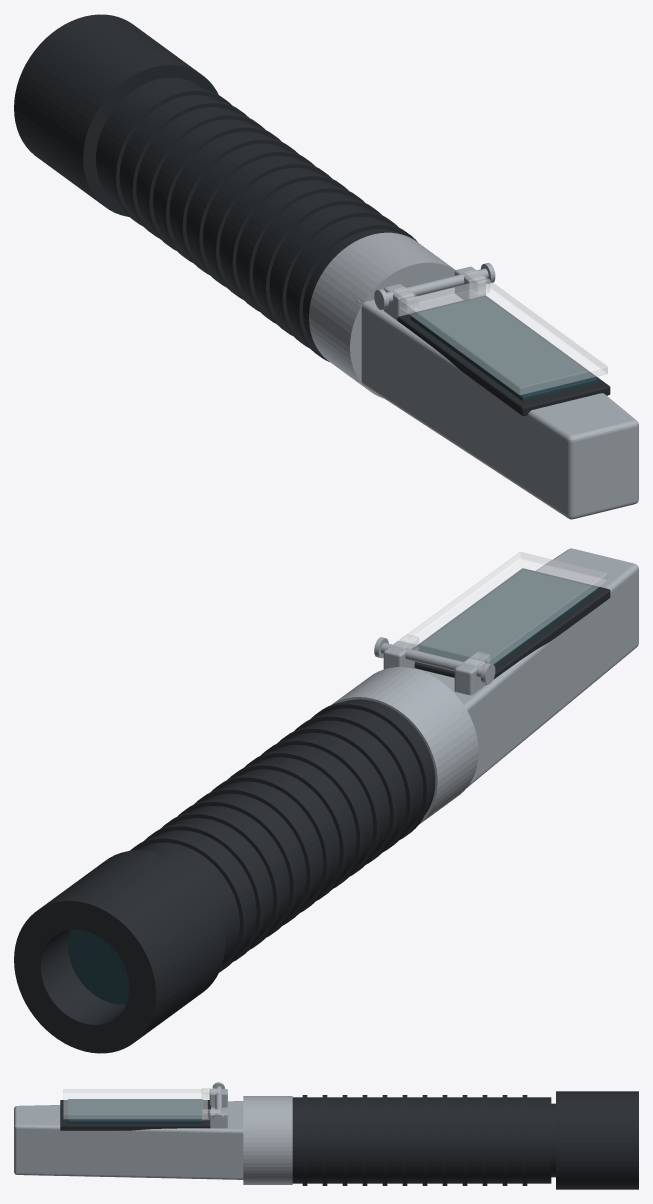
Rendered from full.glb.
3 renders of one model, top to bottom at view 1: azimuth 30°, elevation 25°; view 2: azimuth 150°, elevation 25°; view 3: azimuth 270°, elevation 25°, orthographic. The views are drawn at different scales.
Visible parts, largest first — view 1: Tapered sample head, Coaxial grip, Flared open eyecup, Daylight transparent flap, Front metal collar, Dark rectangular prism, Prism seating surround, Grip ridge 0, Grip ridge 10, Grip ridge 9, Grip ridge 3, Grip ridge 4 (+10 smaller); view 2: Flared open eyecup, Coaxial grip, Tapered sample head, Daylight transparent flap, Dark rectangular prism, Front metal collar, Recessed ocular glass, Prism seating surround, Grip ridge 0, Grip ridge 10, Grip ridge 4, Grip ridge 2 (+10 smaller); view 3: Coaxial grip, Tapered sample head, Flared open eyecup, Front metal collar, Daylight transparent flap, Dark rectangular prism, Prism seating surround, Grip ridge 0, Grip ridge 1, Grip ridge 2, Grip ridge 3, Grip ridge 4 (+10 smaller).
Part boxes in pixels (box(x1,y1,x2,y2)): Tapered sample head: box(356, 287, 638, 519); Coaxial grip: box(96, 77, 401, 348); Flared open eyecup: box(14, 14, 218, 216); Daylight transparent flap: box(400, 279, 607, 394); Front metal collar: box(309, 232, 455, 398); Dark rectangular prism: box(410, 297, 597, 401); Prism seating surround: box(397, 295, 610, 415); Grip ridge 0: box(295, 222, 417, 361); Grip ridge 10: box(129, 100, 248, 238); Grip ridge 9: box(145, 112, 265, 250); Grip ridge 3: box(245, 185, 364, 323); Grip ridge 4: box(229, 173, 348, 311); Flared open eyecup: box(14, 850, 225, 1053); Coaxial grip: box(137, 699, 435, 965); Tapered sample head: box(414, 548, 638, 793); Daylight transparent flap: box(400, 552, 607, 664); Dark rectangular prism: box(415, 570, 597, 666); Front metal collar: box(331, 667, 478, 824); Recessed ocular glass: box(68, 929, 129, 1004); Prism seating surround: box(414, 568, 610, 684); Grip ridge 0: box(311, 701, 430, 839); Grip ridge 10: box(144, 823, 263, 961); Grip ridge 4: box(244, 750, 363, 888); Grip ridge 2: box(277, 726, 397, 864); Coaxial grip: box(292, 1097, 551, 1183); Tapered sample head: box(14, 1101, 250, 1179); Flared open eyecup: box(556, 1091, 638, 1189); Front metal collar: box(243, 1096, 292, 1184); Daylight transparent flap: box(63, 1089, 207, 1118); Dark rectangular prism: box(68, 1099, 203, 1123); Prism seating surround: box(60, 1100, 210, 1130); Grip ridge 0: box(302, 1095, 307, 1185); Grip ridge 1: box(322, 1095, 327, 1185); Grip ridge 2: box(342, 1095, 347, 1185); Grip ridge 3: box(362, 1095, 367, 1185); Grip ridge 4: box(382, 1095, 387, 1185).
Size of the model in its own units: 0.032 by 0.032 by 0.203.
